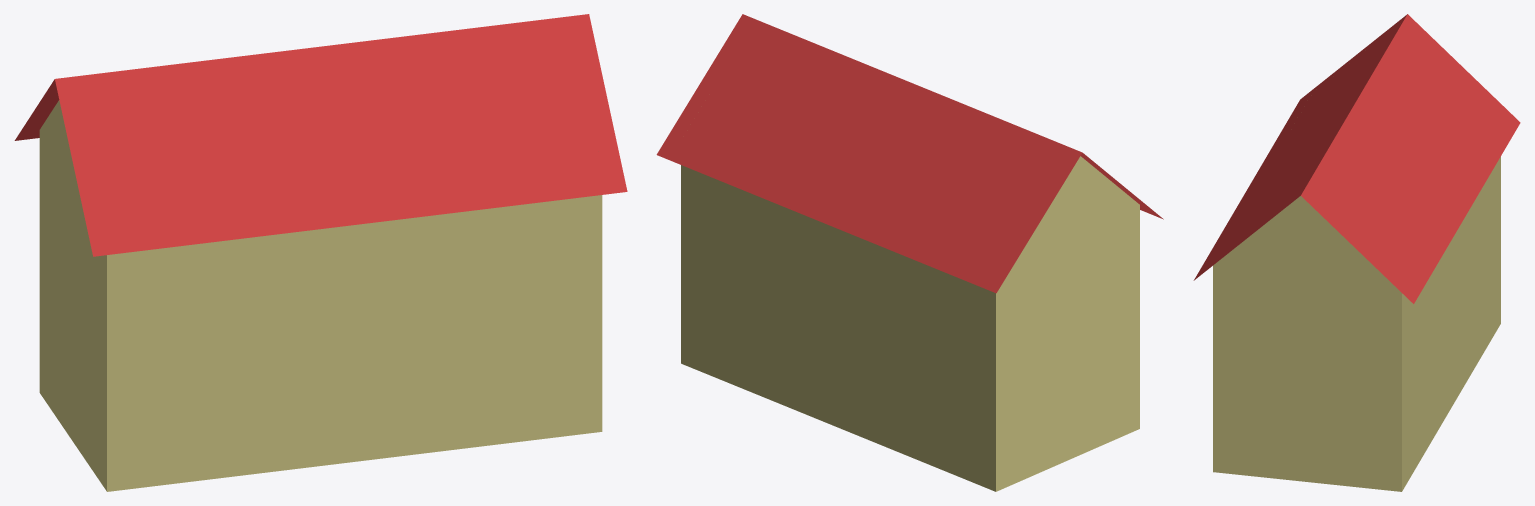
3 renders of one model, left to right at view 1: azimuth 30°, elevation 25°; view 2: azimuth 150°, elevation 25°; view 3: azimuth 270°, elevation 25°, orthographic. The views are drawn at different scales.
Parts seen in each view (by area): view 1: group_5, group_3, group_4; view 2: group_5, group_3, group_4; view 3: group_5, group_3, group_4.
Boxes of the visible parts, box(x1,y1,x2,y2) form: group_5: box(39, 100, 602, 491); group_3: box(74, 14, 602, 251); group_4: box(14, 14, 627, 256); group_5: box(681, 156, 1139, 491); group_3: box(657, 19, 1163, 293); group_4: box(656, 14, 913, 259); group_5: box(1213, 156, 1500, 491); group_3: box(1213, 14, 1520, 302); group_4: box(1193, 14, 1462, 303).
Size of the model in its own units: 22.42 by 15.14 by 14.94.
